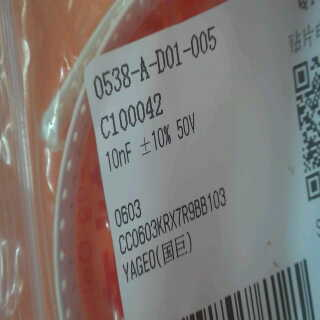10nF: (103, 141, 132, 169)
